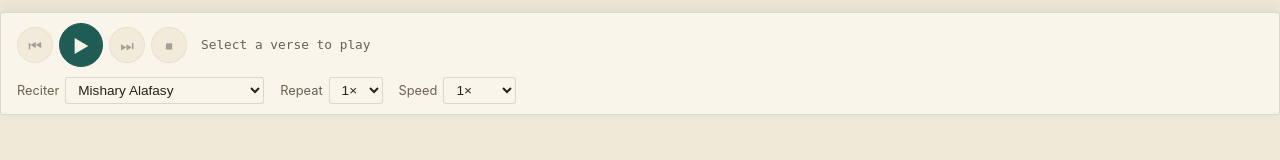
Test: QuranAudioPlayer › starts at the first verse on play, loading the correct EveryAyah URL
What coordinates should you click on to do the following:
click the button named "Play"
I would click on:
 (81, 45)
Its box is [59,23,103,67].
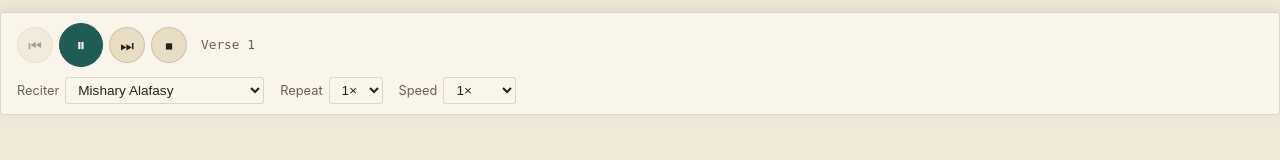
Result: the text "Verse 1" is shown at [201,35,255,55]
Result: the button named "Pause" is shown at [59,23,103,67]
